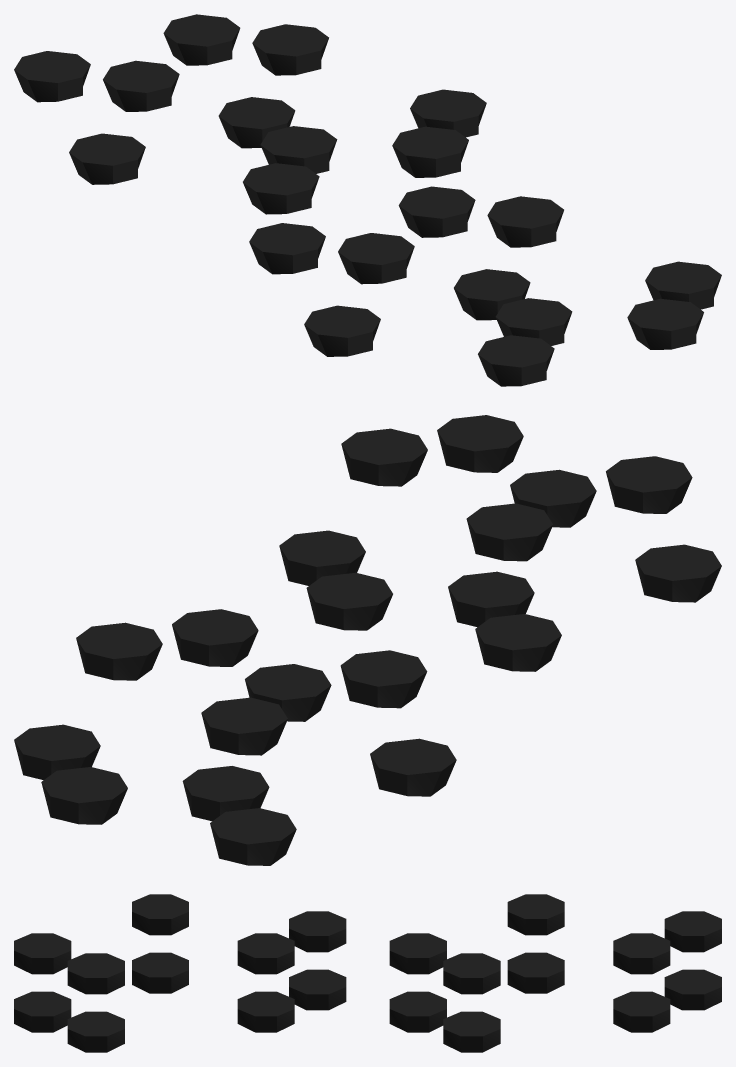
The model's file is carbon.obj.
3 renders of one model, top to bottom at view 1: azimuth 30°, elevation 25°; view 2: azimuth 150°, elevation 25°; view 3: azimuth 270°, elevation 25°, orthographic. The views are drawn at different scales.
Parts seen in each view (by area): view 1: carbon muebles_playa; view 2: carbon muebles_playa; view 3: carbon muebles_playa.
Boxes of the visible parts, x1,y1,x2,y2 form: carbon muebles_playa: (14,14,721,386); carbon muebles_playa: (14,415,721,865); carbon muebles_playa: (14,894,721,1052).
Size of the model in its own units: 1.91 by 0.1245 by 4.02.
1 material, 1 textured.
